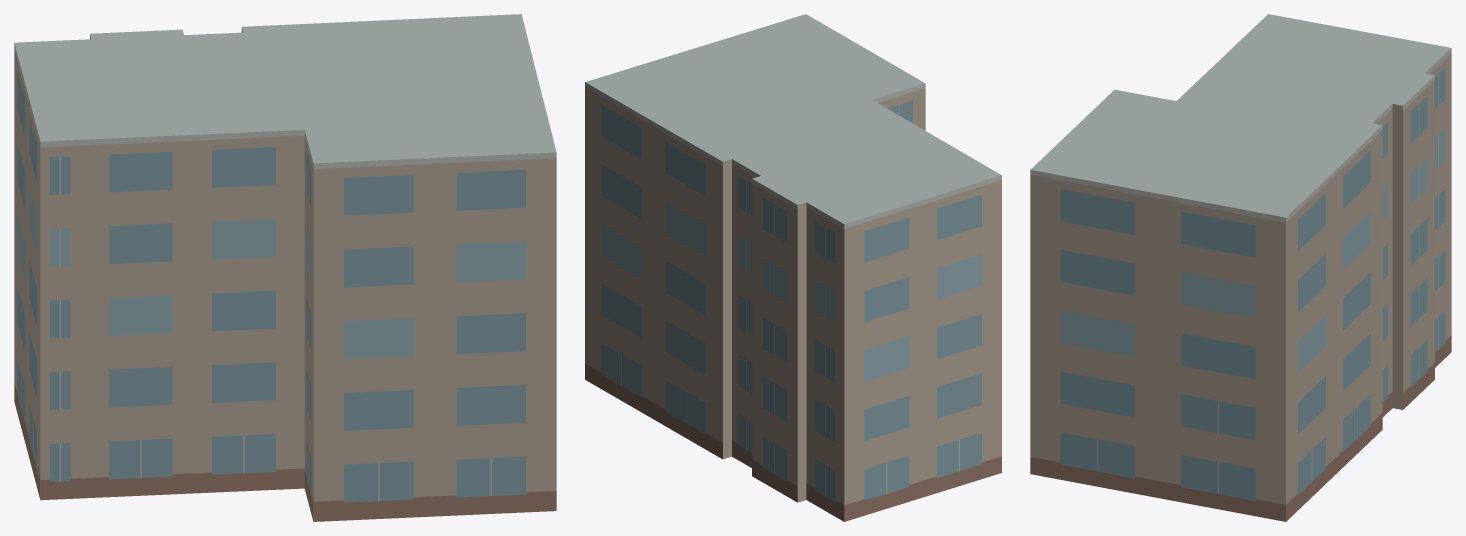
Rendered from survey-upis-32530741.glb.
3 renders of one model, left to right at view 1: azimuth 30°, elevation 25°; view 2: azimuth 150°, elevation 25°; view 3: azimuth 270°, elevation 25°, orthographic. The views are drawn at different scales.
Parts seen in each view (by area): view 1: survey-upis-32530741.tmp; view 2: survey-upis-32530741.tmp; view 3: survey-upis-32530741.tmp.
Part boxes in pixels (x1,y1,x2,y2): survey-upis-32530741.tmp: [14, 14, 556, 521]; survey-upis-32530741.tmp: [585, 14, 1001, 521]; survey-upis-32530741.tmp: [1030, 14, 1451, 521].
Bounding box in the file's own units: 21.39 × 14.9 × 18.7.
